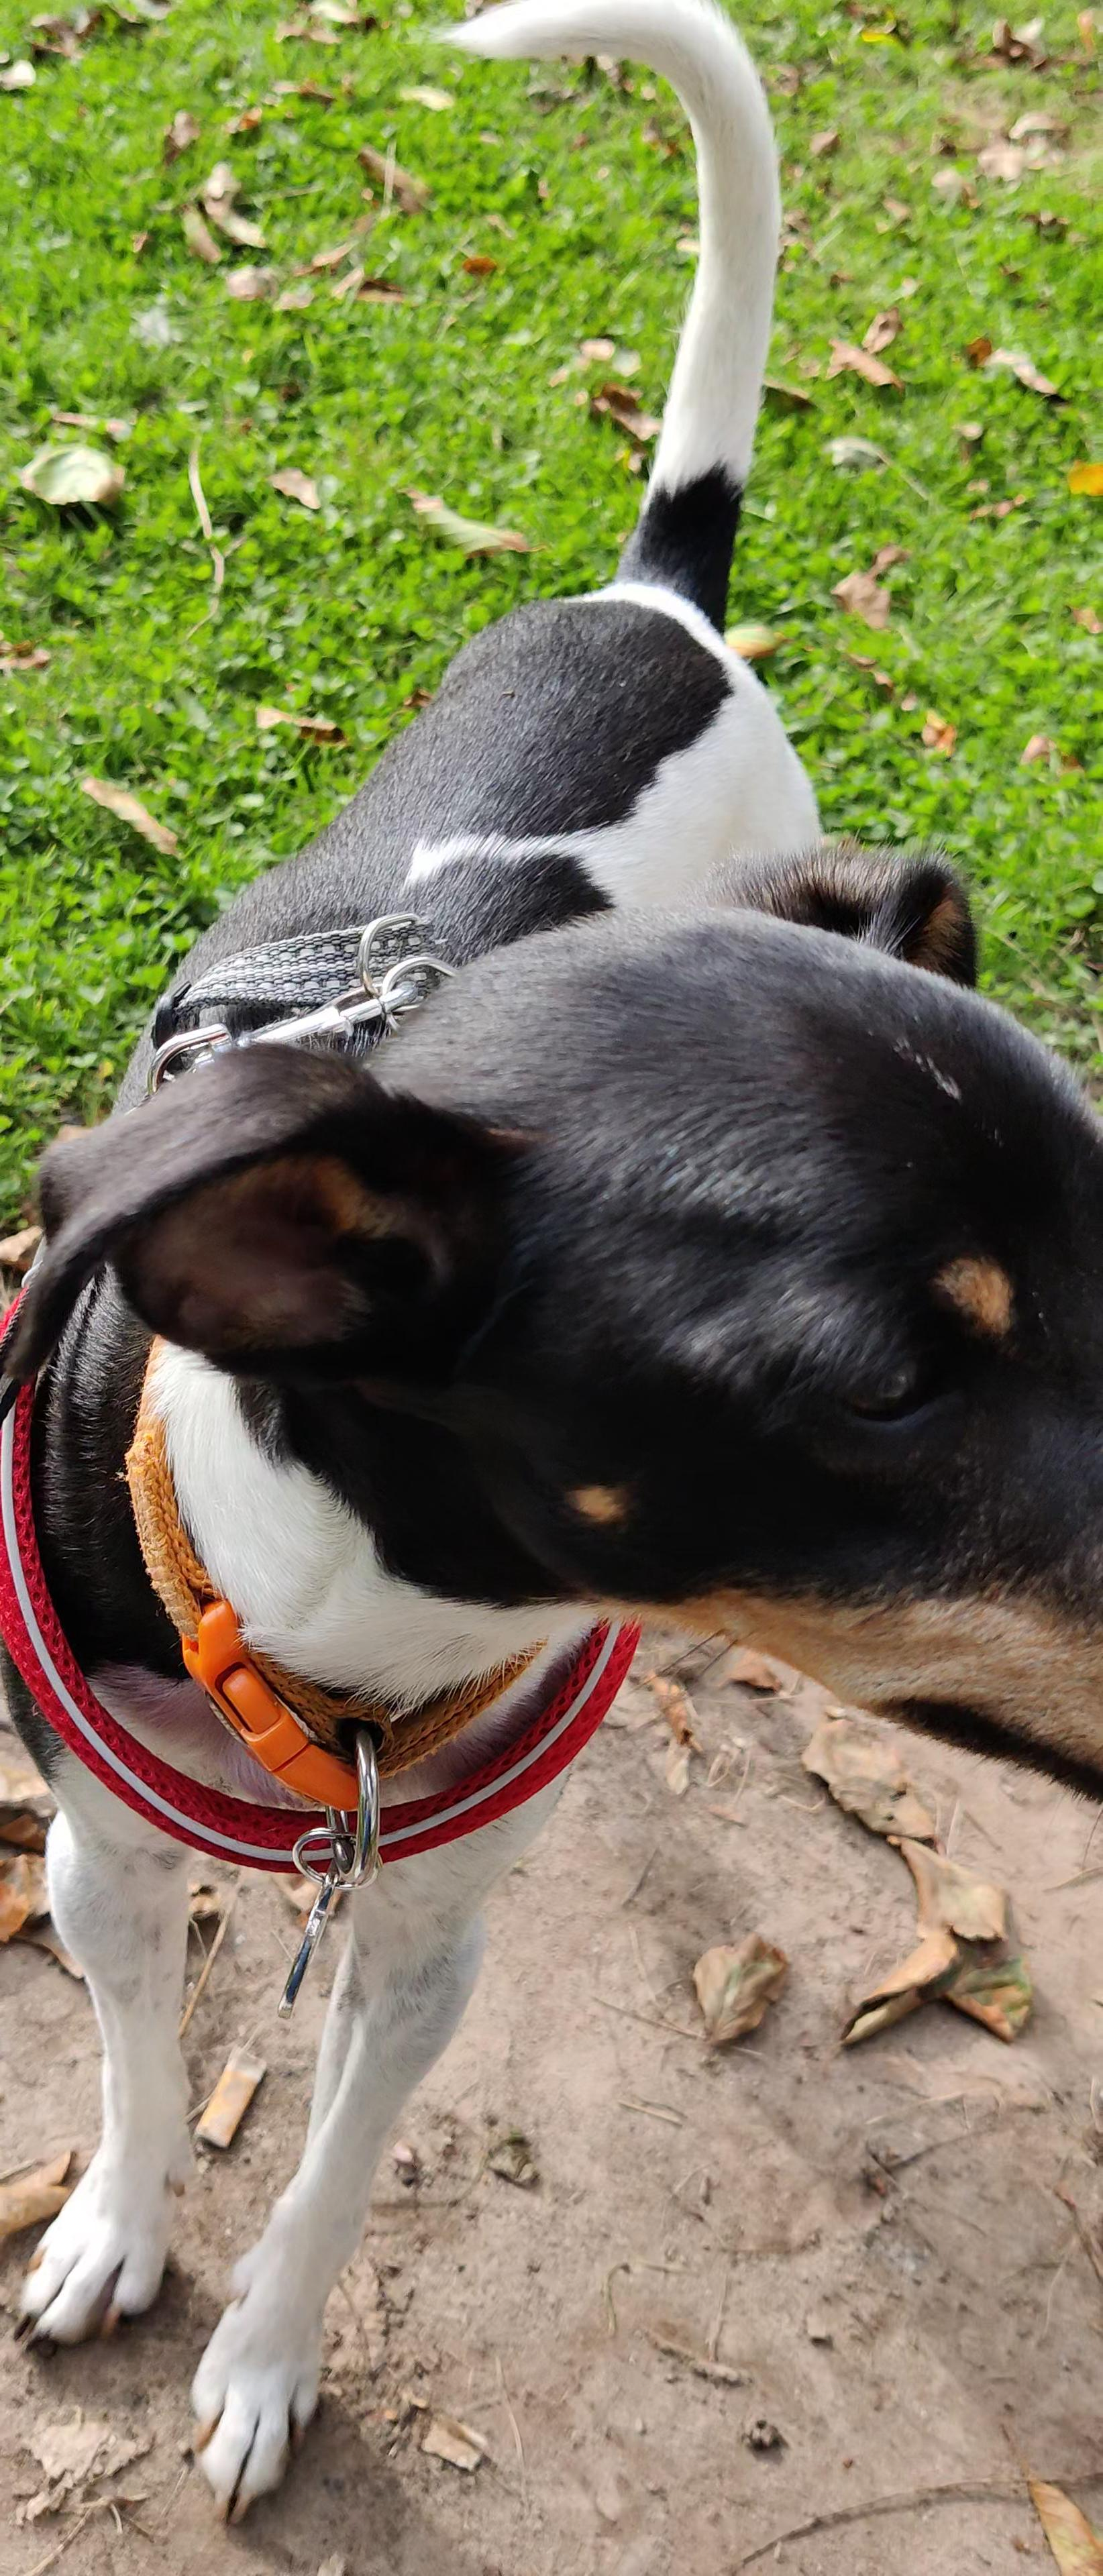Dog: (0, 0, 1103, 2528)
